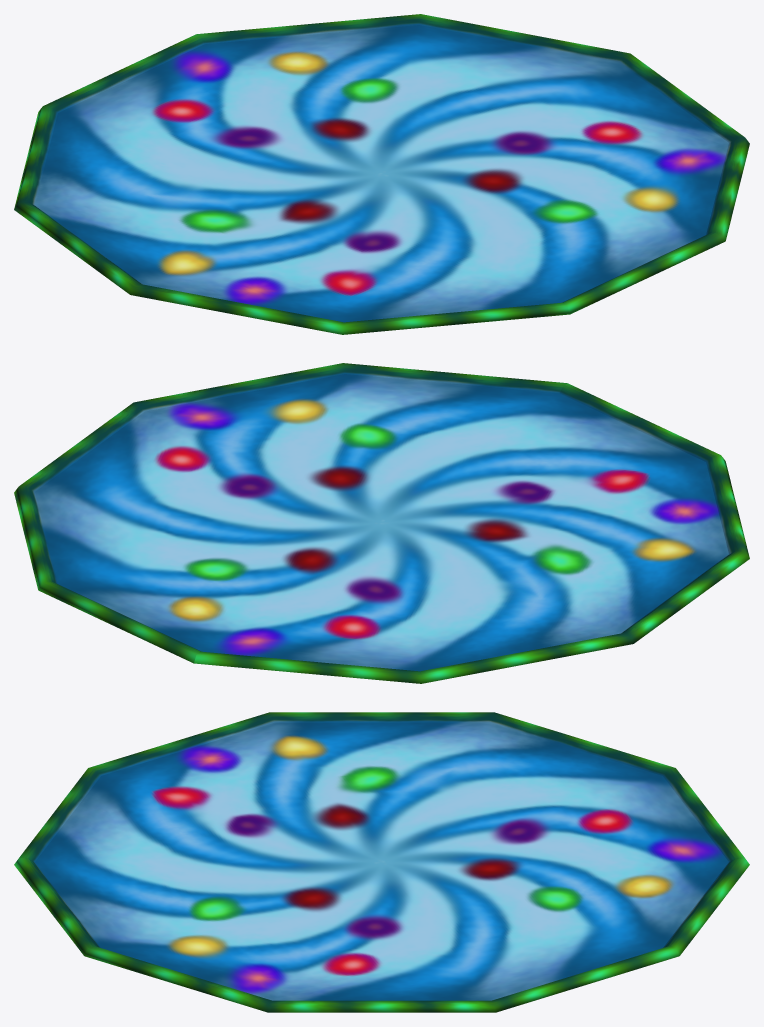
File: TeaTray_DEFAULT.dae
3 renders of one model, top to bottom at view 1: azimuth 30°, elevation 25°; view 2: azimuth 150°, elevation 25°; view 3: azimuth 270°, elevation 25°, orthographic. The views are drawn at different scales.
Parts seen in each view (by area): view 1: mesh0; view 2: mesh0; view 3: mesh0.
Boxes of the visible parts, box(x1,y1,x2,y2) form: mesh0: box(14, 14, 749, 334); mesh0: box(14, 363, 749, 683); mesh0: box(14, 712, 749, 1012).
Bounding box in the file's own units: 2.29 × 0.0434 × 2.4.
